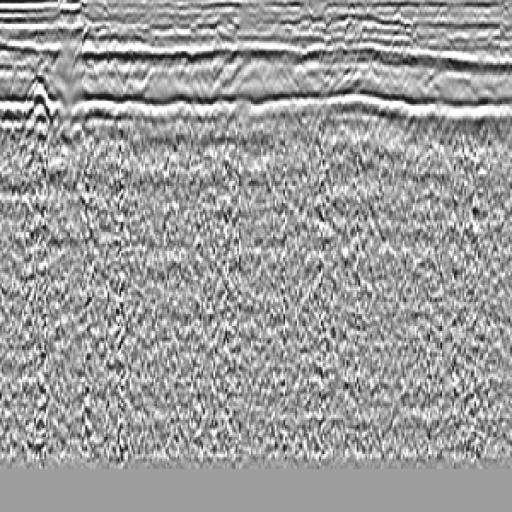metalic: (5, 48, 102, 248)
